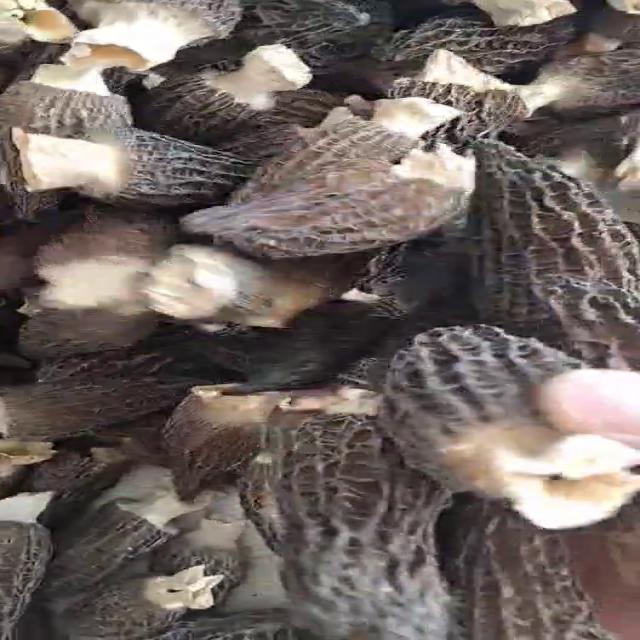Morchella esculenta: (393, 320, 640, 525), (468, 141, 640, 326), (65, 486, 233, 640), (0, 133, 250, 199)
